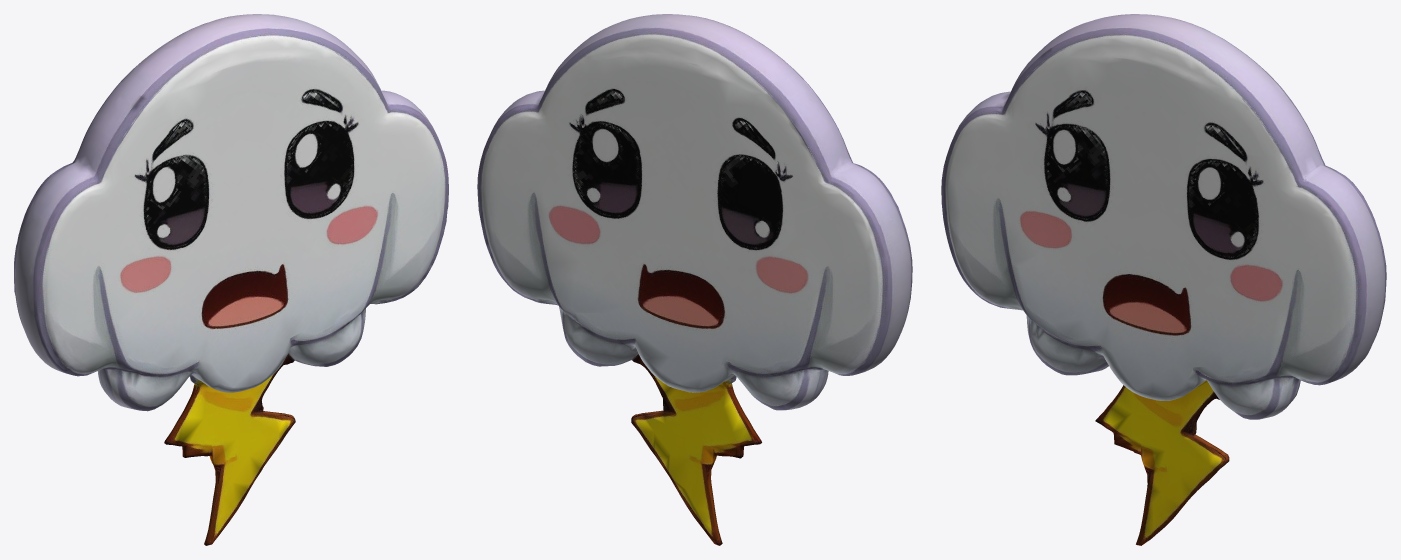
Rendered from gok_bulutu.glb.
3 renders of one model, left to right at view 1: azimuth 30°, elevation 25°; view 2: azimuth 150°, elevation 25°; view 3: azimuth 330°, elevation 25°, orthographic. The views are drawn at different scales.
Visible parts, largest first — view 1: geometry_0; view 2: geometry_0; view 3: geometry_0.
Part boxes in pixels (x1,y1,x2,y2): geometry_0: (14,14,448,545); geometry_0: (477,14,912,545); geometry_0: (941,14,1386,545).
Bounding box in the file's own units: 0.85 × 1 × 0.1093.
Materials: 1 (1 with a texture image).
